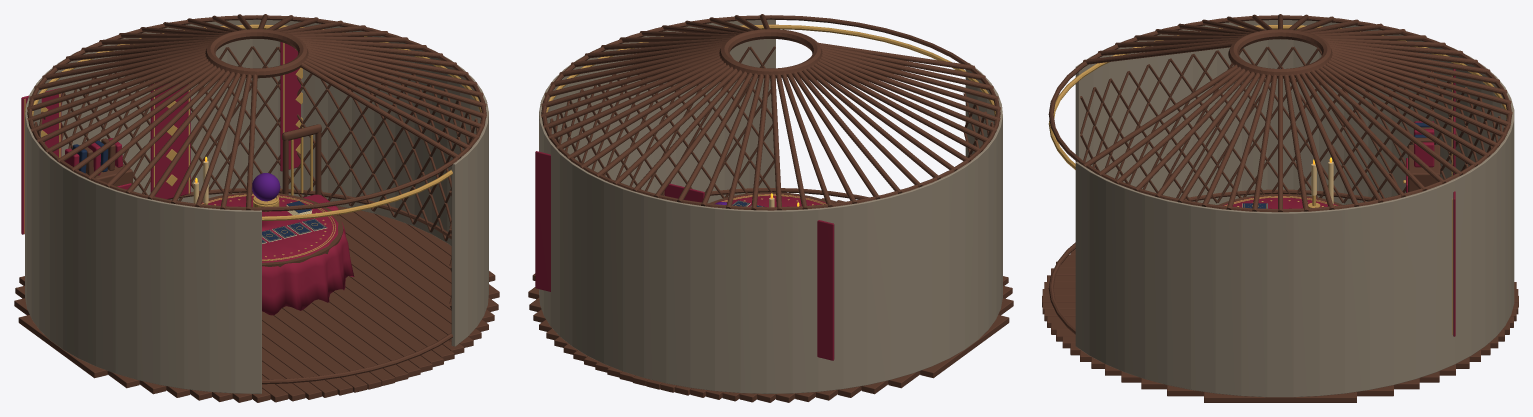
File: ger_tarot_room.glb
3 views of the same model, side by side, from view 1: azimuth 30°, elevation 25°; view 2: azimuth 150°, elevation 25°; view 3: azimuth 270°, elevation 25° (orthographic).
Visible parts, largest first — view 1: Tablecloth | sculpted hanging folds, Felt wall panel 36, Felt wall panel 37, Felt wall panel 35, Felt wall panel 34, Felt wall panel 33, Felt wall panel 32, Circular wall binding.002, Felt wall panel 31, Felt wall panel 30, Felt wall panel 47, Felt wall panel 29 (+93 smaller); view 2: Felt wall panel 18, Felt wall panel 19, Felt wall panel 20, Felt wall panel 17, Felt wall panel 15, Felt wall panel 16, Felt wall panel 22, Felt wall panel 23, Felt wall panel 14, Felt wall panel 24, Circular wall binding.002, Felt wall panel 13 (+74 smaller); view 3: Felt wall panel 00, Felt wall panel 01, Felt wall panel 02, Felt wall panel 54, Felt wall panel 55, Felt wall panel 53, Felt wall panel 03, Felt wall panel 04, Felt wall panel 52, Felt wall panel 51, Felt wall panel 05, Felt wall panel 50 (+75 smaller).
Boxes of the visible parts, x1,y1,x2,y2 form: Tablecloth | sculpted hanging folds: (201,194,354,315); Felt wall panel 36: (209,208,235,393); Felt wall panel 37: (235,210,261,393); Felt wall panel 35: (184,205,209,391); Felt wall panel 34: (160,201,184,388); Felt wall panel 33: (137,196,160,384); Felt wall panel 32: (115,190,137,379); Circular wall binding.002: (27,15,486,211); Felt wall panel 31: (96,183,116,373); Felt wall panel 30: (78,175,97,366); Felt wall panel 47: (451,154,467,346); Felt wall panel 29: (63,166,79,357); Felt wall panel 18: (740,209,766,393); Felt wall panel 19: (766,210,792,393); Felt wall panel 20: (792,208,818,393); Felt wall panel 17: (715,207,740,392); Felt wall panel 15: (666,200,690,387); Felt wall panel 16: (690,204,715,390); Felt wall panel 22: (843,201,867,388); Felt wall panel 23: (867,196,890,384); Felt wall panel 14: (644,194,667,383); Felt wall panel 24: (889,190,912,379); Circular wall binding.002: (541,15,1000,210); Felt wall panel 13: (623,188,644,377); Felt wall panel 00: (1267,212,1293,397); Felt wall panel 01: (1293,211,1319,397); Felt wall panel 02: (1319,208,1345,395); Felt wall panel 54: (1215,208,1241,395); Felt wall panel 55: (1241,211,1267,397); Felt wall panel 53: (1191,205,1216,393); Felt wall panel 03: (1345,205,1369,393); Felt wall panel 04: (1369,200,1393,389); Felt wall panel 52: (1167,200,1191,389); Felt wall panel 51: (1145,194,1168,384); Felt wall panel 05: (1393,194,1415,384); Felt wall panel 50: (1124,187,1146,378).
Bounding box in the file's own units: 6.66 × 4.01 × 6.8.
